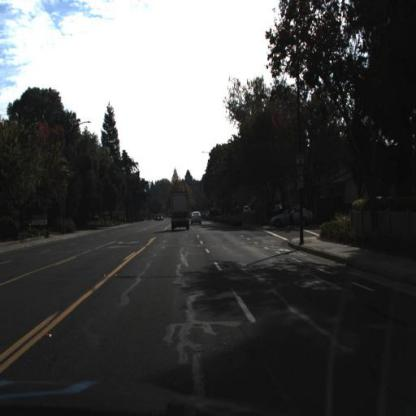car: (270, 206, 315, 229), (190, 210, 204, 229)
pedestrian: (289, 204, 294, 231)
truck: (169, 185, 192, 233)
